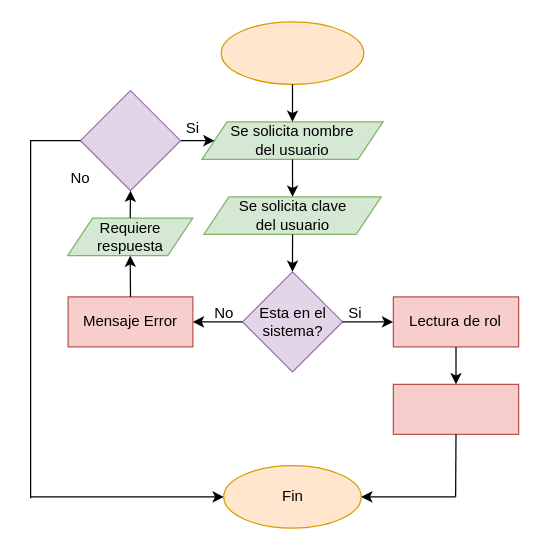
The diagram is 541 pixels wide and 550 high, and some of its shapes have lost their labels. The shapes that lost their labels are listed below. From the top down, each one's box as (x1, y1, x2, y2) in pixels, then its label:
(220, 21, 364, 84): Inicio
(79, 89, 180, 191): Reintentar
(392, 383, 519, 434): Entra al sistema
